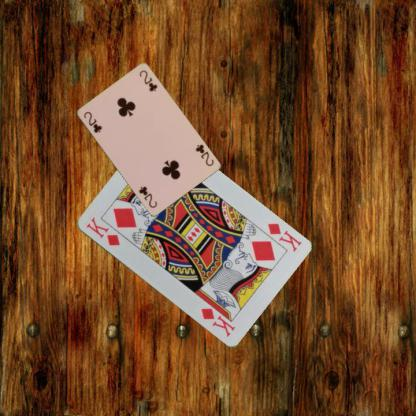2c: (192, 142, 215, 168), (81, 109, 103, 134)
Kd: (83, 214, 121, 248), (264, 220, 302, 254)
